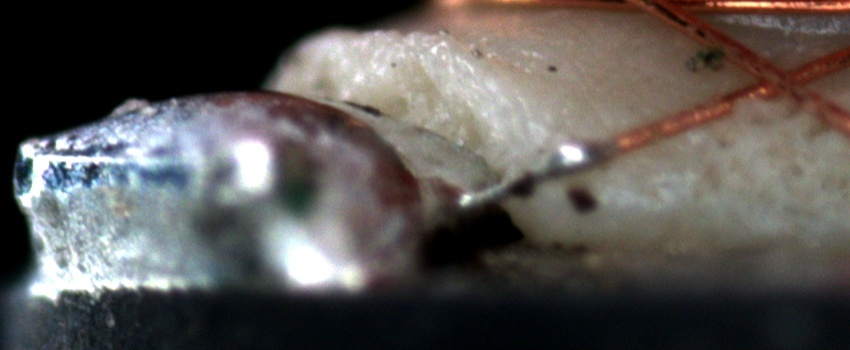TB: (537, 142, 619, 186)
TS: (455, 138, 617, 210)
TTCW: (464, 114, 675, 211)
